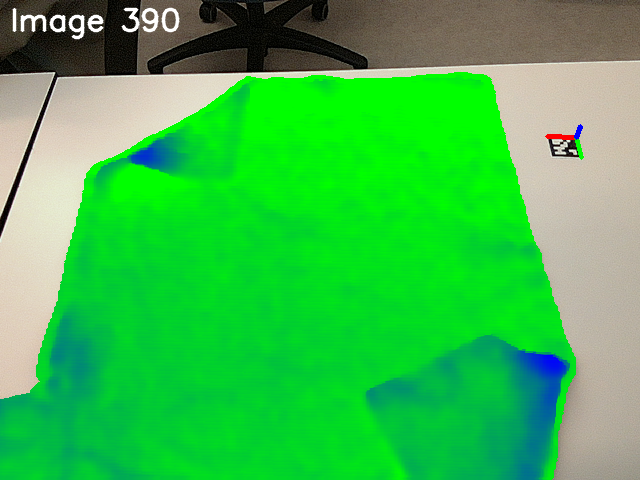V: (354, 366, 420, 428), (194, 142, 245, 188)
